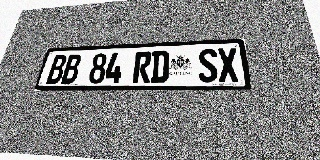4: (104, 52, 124, 83)
8: (88, 53, 109, 84)
B: (60, 54, 82, 84), (46, 55, 68, 84)
D: (150, 50, 169, 83)
R: (132, 51, 152, 83)
S: (198, 49, 218, 82)
X: (217, 48, 240, 82)
